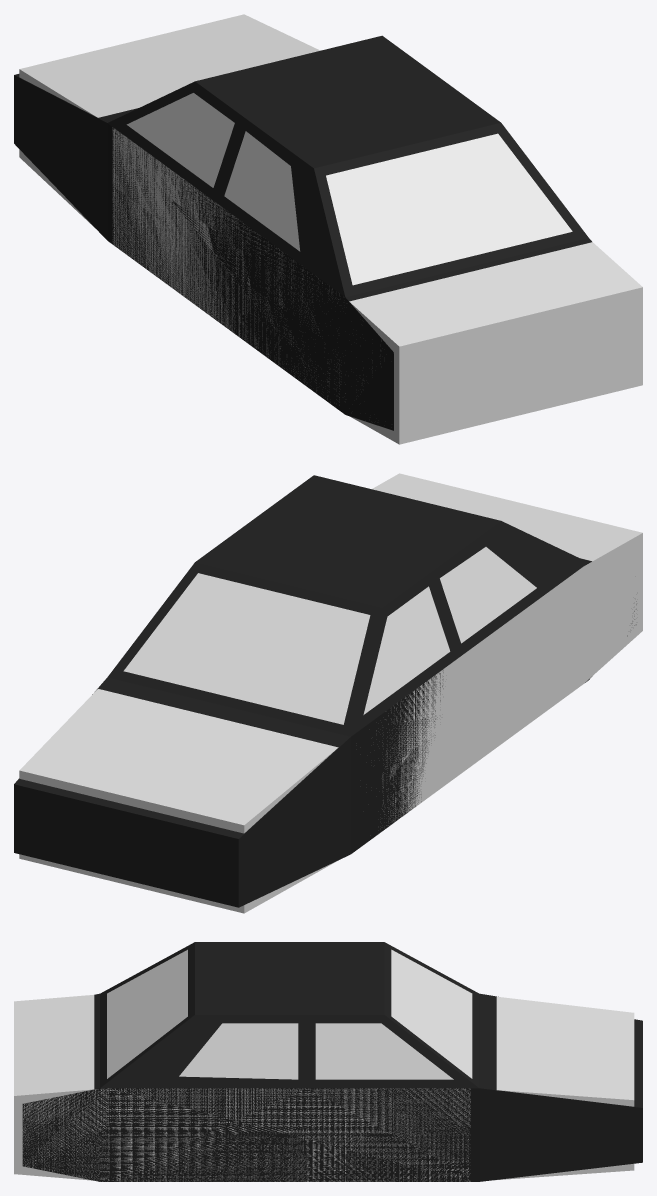
The model's file is beamer.glb.
3 renders of one model, top to bottom at view 1: azimuth 30°, elevation 25°; view 2: azimuth 150°, elevation 25°; view 3: azimuth 270°, elevation 25°, orthographic. The views are drawn at different scales.
Parts seen in each view (by area): view 1: vehicles/beamer, COL_hull, window.04, window.02, window.05; view 2: vehicles/beamer, COL_hull, window.00, window.02, window.05; view 3: vehicles/beamer, COL_hull, window.00, window.04, window.01, window.03.
Boxes of the visible parts, left/top/right/bottom form: vehicles/beamer: left=14, top=35, right=591, bottom=430; COL_hull: left=19, top=14, right=642, bottom=444; window.04: left=326, top=133, right=572, bottom=285; window.02: left=126, top=93, right=234, bottom=187; window.05: left=224, top=131, right=300, bottom=251; vehicles/beamer: left=14, top=475, right=636, bottom=907; COL_hull: left=19, top=473, right=642, bottom=913; window.00: left=123, top=573, right=370, bottom=724; window.02: left=363, top=586, right=450, bottom=714; window.05: left=440, top=547, right=536, bottom=643; vehicles/beamer: left=22, top=942, right=642, bottom=1181; COL_hull: left=14, top=995, right=634, bottom=1181; window.00: left=391, top=949, right=472, bottom=1078; window.04: left=107, top=949, right=187, bottom=1078; window.01: left=315, top=1023, right=453, bottom=1079; window.03: left=179, top=1023, right=298, bottom=1079.
Size of the model in its own units: 1.62 by 1.25 by 4.56.
Materials: 2 (2 with a texture image).
